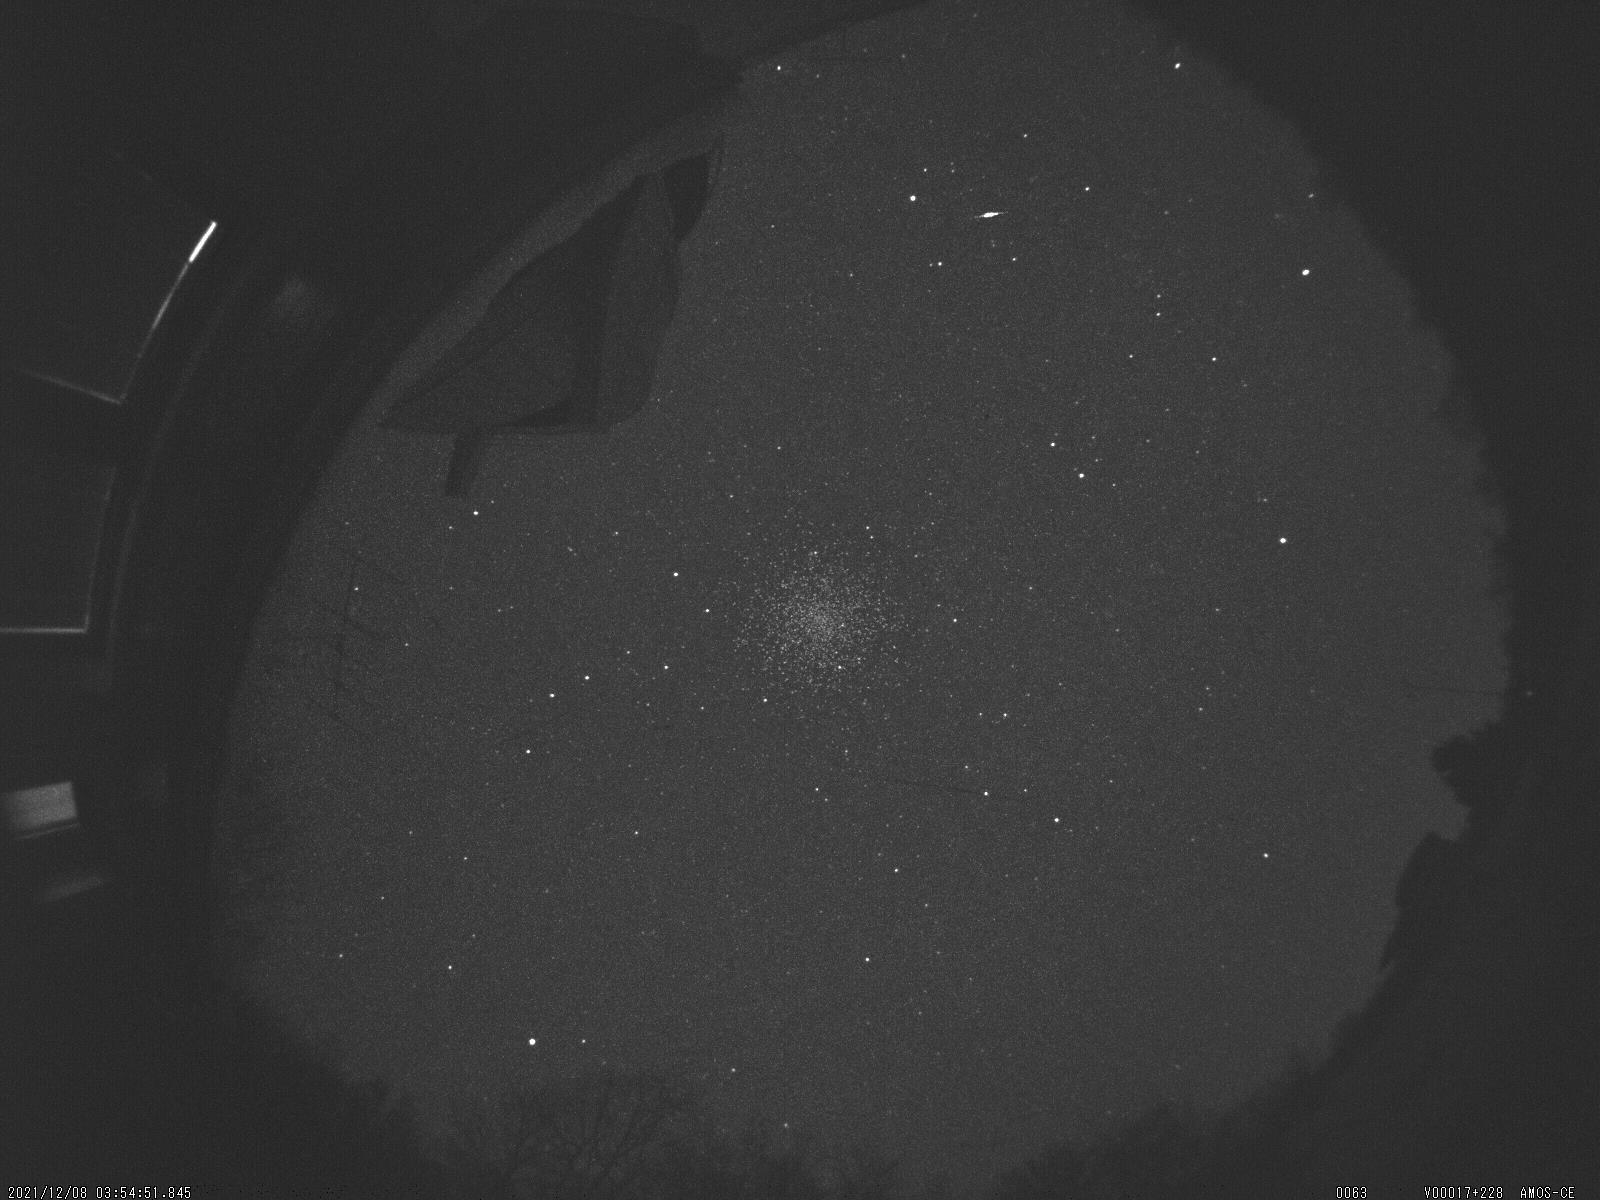Meteor: (971, 199, 1012, 232)
